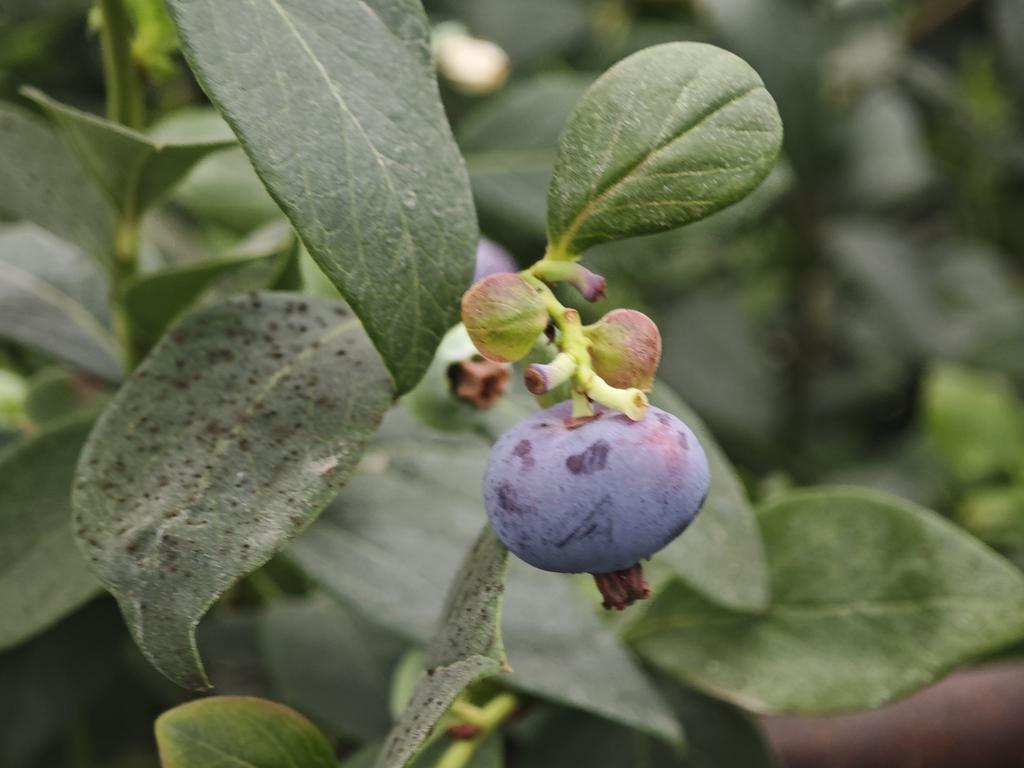RipeBlueBerry: (488, 376, 737, 613)
